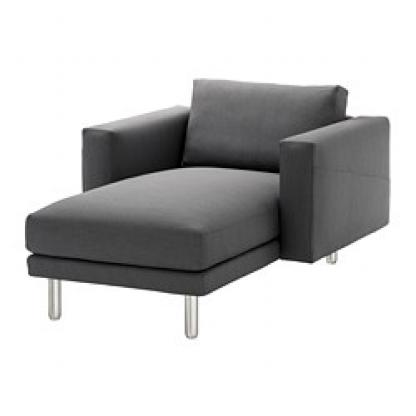Sofa: (17, 65, 391, 346)
